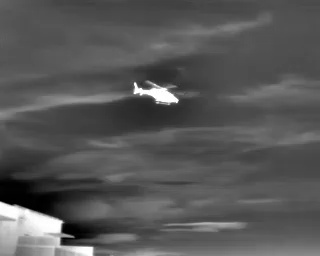HELICOPTER: (129, 74, 190, 112)
